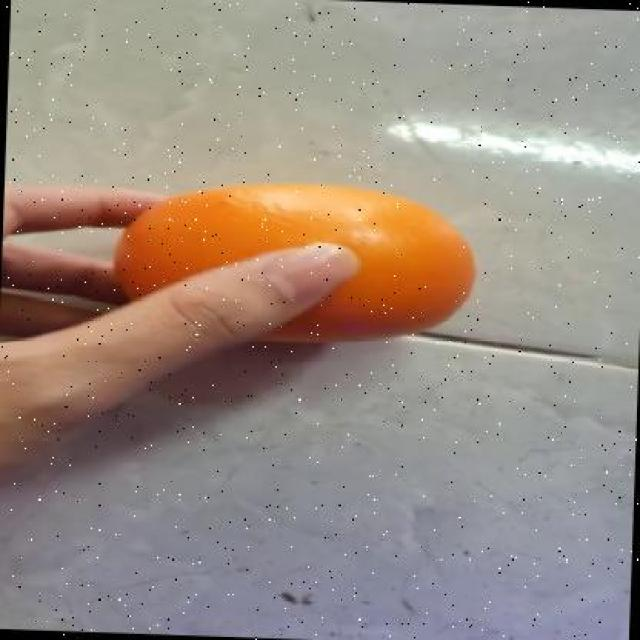Orange: (111, 180, 475, 345)
